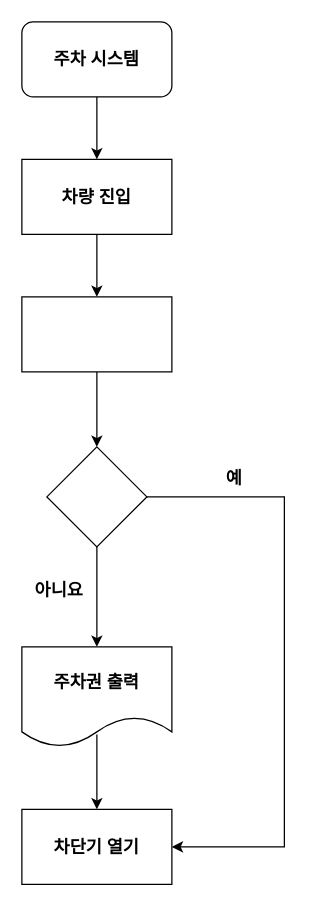
The diagram is 316 pixels wide and 906 high, and some of its shapes have lost their labels. Each missing label, with the box of its shape:
시간 기록: (21, 296, 172, 372)
정기권: (46, 446, 147, 547)
